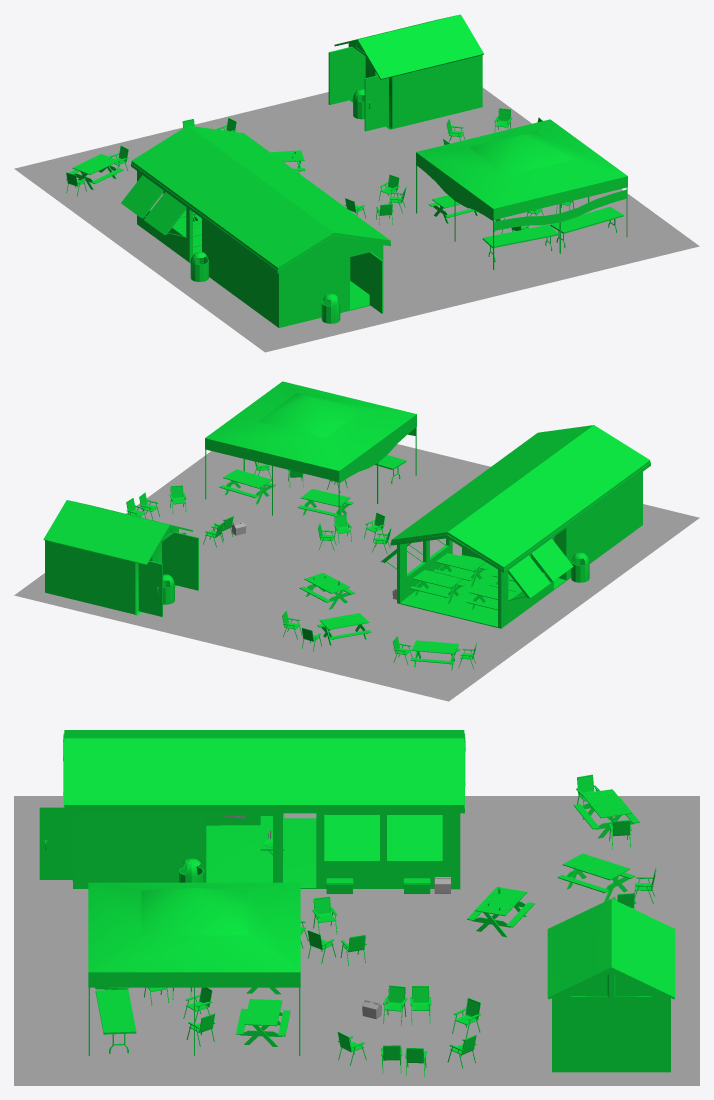
The model's file is party1.fbx.
The picture shows the model from 3 angles, top to bottom: view 1: azimuth 30°, elevation 25°; view 2: azimuth 150°, elevation 25°; view 3: azimuth 270°, elevation 25°; orthographic projection. The views are drawn at different scales.
Visible parts, largest first — view 1: BASEGROUND, shelterRoof, canopy, restroomBuilding, shelterBaseStructure, window (×2), tableTop (×2), pPlane4, door_mensroom, pPlane2, door_mensroom1, picnicTable2 (+4 smaller); view 2: BASEGROUND, shelterRoof, canopy, restroomBuilding, shelterBaseStructure, window (×2), picnicTable (×2), door_mensroom1, door_mensroom, picnicTable6, picnicTable4, picnicTable1 (+5 smaller); view 3: BASEGROUND, shelterRoof, canopy, shelterBaseStructure, restroomBuilding, window (×2), door_storage, picnicTable6, picnicTable, picnicTable1, tableTop, picnicTable2.
Part boxes in pixels (box(x1,y1,x2,y2)): BASEGROUND: box(14, 87, 699, 352); shelterRoof: box(131, 125, 390, 273); canopy: box(416, 119, 627, 219); restroomBuilding: box(334, 14, 483, 129); shelterBaseStructure: box(137, 171, 383, 327); window (×2): box(121, 175, 186, 234); tableTop (×2): box(482, 207, 623, 248); pPlane4: box(287, 257, 341, 298); door_mensroom: box(328, 46, 352, 104); pPlane2: box(493, 189, 627, 230); door_mensroom1: box(364, 75, 388, 131); picnicTable2: box(69, 154, 123, 189); BASEGROUND: box(14, 444, 699, 701); shelterRoof: box(390, 425, 650, 572); canopy: box(205, 381, 416, 481); restroomBuilding: box(43, 500, 192, 615); shelterBaseStructure: box(397, 472, 642, 628); window (×2): box(508, 538, 573, 598); picnicTable (×2): box(297, 489, 354, 609); door_mensroom1: box(174, 532, 198, 590); door_mensroom: box(138, 561, 162, 616); picnicTable6: box(219, 469, 275, 504); picnicTable4: box(409, 570, 465, 603); picnicTable1: box(317, 613, 371, 645); BASEGROUND: box(14, 796, 699, 1085); shelterRoof: box(63, 730, 465, 813); canopy: box(88, 882, 300, 987); shelterBaseStructure: box(72, 813, 460, 889); restroomBuilding: box(547, 898, 675, 1072); window (×2): box(324, 815, 442, 861); door_storage: box(39, 807, 72, 879); picnicTable6: box(236, 999, 290, 1046); picnicTable: box(467, 887, 534, 937); picnicTable1: box(557, 853, 635, 901); tableTop: box(95, 989, 136, 1034); picnicTable2: box(573, 789, 639, 838).
Size of the model in its own units: 40 by 7.96 by 40.
